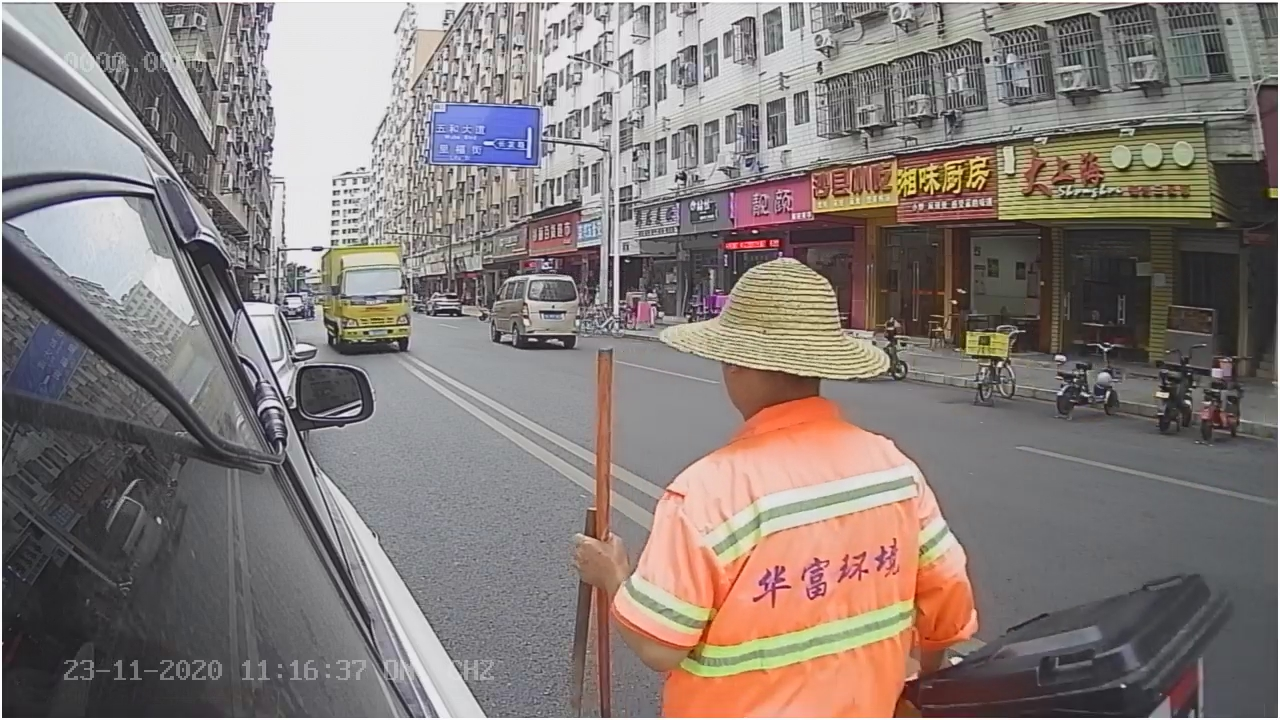person: (620, 252, 983, 712)
